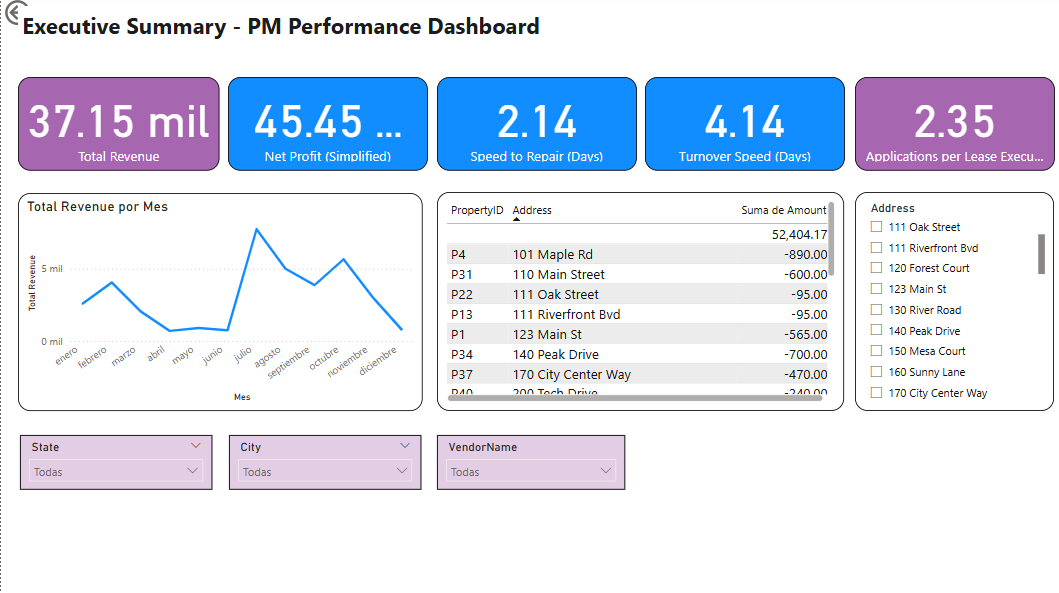

This screenshot's page, from the dashboard's own definition file:
{"tool":"powerbi","page":{"name":"Executive Summary","canvas":[1280,720],"ordinal":0},"visuals":[{"type":"tableEx","fields":{"Values":["Properties.PropertyID","Properties.Address","Sum(FinancialEntries.Amount)"]},"box":[526.2,236.2,491.2,263.8],"z":0},{"type":"actionButton","box":[0,0,100,40],"z":1000},{"type":"card","fields":{"Values":["FinancialEntries.Total Revenue"]},"box":[20.5,97.4,243,113.1],"z":2000},{"type":"textbox","box":[21,12,655,49],"z":3000},{"type":"card","fields":{"Values":["FinancialEntries.Net Profit (Simplified)"]},"box":[274.3,97.4,240.6,113.1],"z":4000},{"type":"card","fields":{"Values":["WorkOrders.Speed to Repair (Days)"]},"box":[525.7,97.4,240.6,113.1],"z":5000},{"type":"card","fields":{"Values":["WorkOrders.Turnover Speed (Days)"]},"box":[777.1,97.4,240.6,113.1],"z":6000},{"type":"card","fields":{"Values":["Applications.Applications per Lease Executed"]},"box":[1029.8,97.4,240.6,113.1],"z":7000},{"type":"lineChart","fields":{"Y":["FinancialEntries.Total Revenue"],"Category":["FinancialEntries.TransactionDat.Variación.Jerarquía de fechas.Mes"]},"box":[20,237.5,487.5,262.5],"z":8000},{"type":"slicer","fields":{"Values":["Properties.Address"]},"box":[1030,236.2,240,263.8],"z":9000},{"type":"slicer","fields":{"Values":["Properties.City"]},"box":[274.4,529.4,232.2,66.1],"z":10000},{"type":"slicer","fields":{"Values":["Vendors.VendorName"]},"box":[525.6,529.4,227.2,66.1],"z":11000},{"type":"slicer","fields":{"Values":["Properties.State"]},"box":[22.5,529.5,231.8,66.4],"z":12000}]}

Visuals, with their boxes in screenshot pixels (x1, y1, x2, y2), scaled from the page's 1280x720 canvas onto the 1059x593 screenshot:
tableEx - Properties.PropertyID x Properties.Address: 435 195 842 412
actionButton: 0 0 83 33
card - FinancialEntries.Total Revenue: 17 80 218 173
textbox: 17 10 559 50
card - FinancialEntries.Net Profit (Simplified): 227 80 426 173
card - WorkOrders.Speed to Repair (Days): 435 80 634 173
card - WorkOrders.Turnover Speed (Days): 643 80 842 173
card - Applications.Applications per Lease Executed: 852 80 1051 173
lineChart - FinancialEntries.Total Revenue x FinancialEntries.TransactionDat.Variación.Jerarquía de fechas.Mes: 17 196 420 412
slicer - Properties.Address: 852 195 1051 412
slicer - Properties.City: 227 436 419 490
slicer - Vendors.VendorName: 435 436 623 490
slicer - Properties.State: 19 436 210 491
